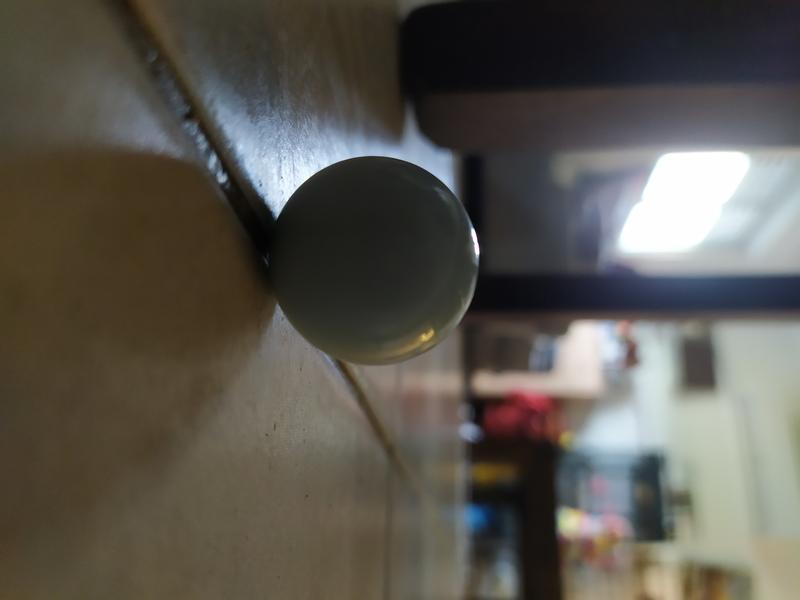Warning: (266, 149, 486, 369)
